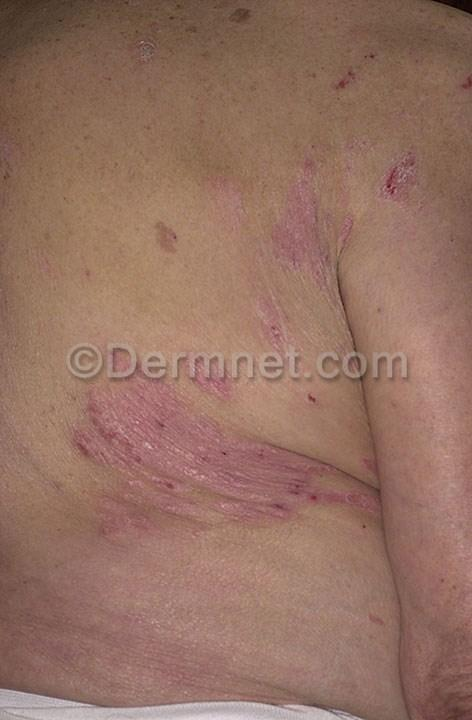Eczema: (64, 354, 309, 599), (196, 113, 362, 319), (370, 114, 459, 243), (306, 12, 407, 98), (424, 52, 472, 105)
